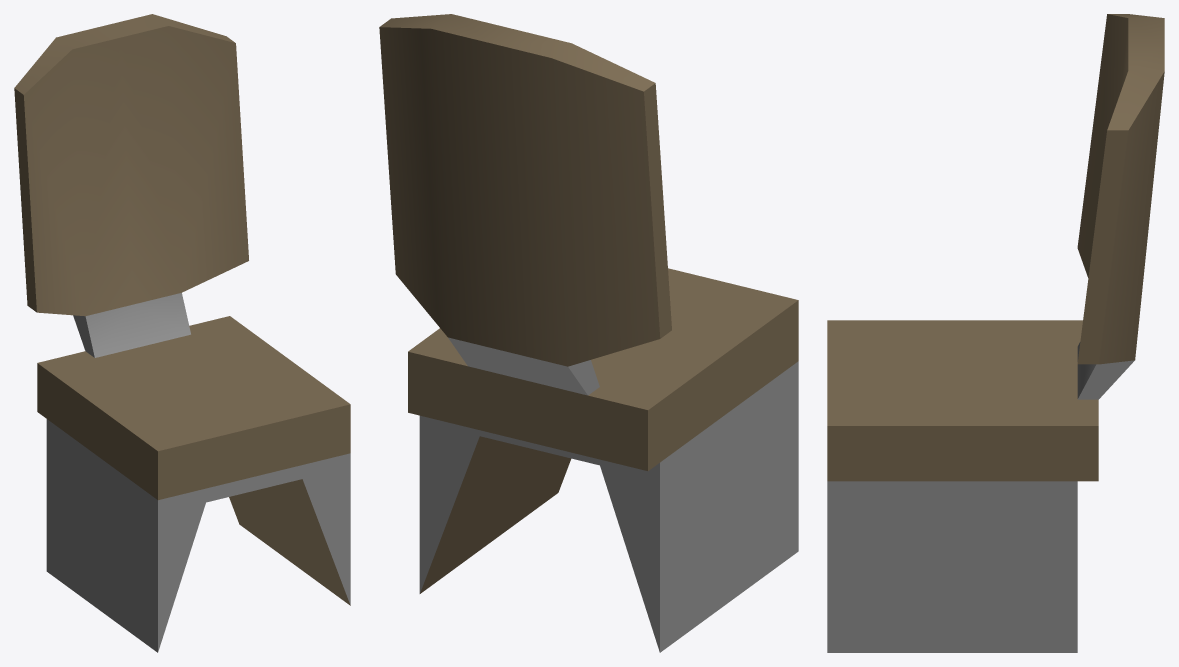
File: chair_room.fbx
3 views of the same model, side by side, from view 1: azimuth 30°, elevation 25°; view 2: azimuth 150°, elevation 25°; view 3: azimuth 270°, elevation 25° (orthographic). The views are drawn at different scales.
Parts seen in each view (by area): view 1: chair_room; view 2: chair_room; view 3: chair_room.
Part boxes in pixels (x1,y1,x2,y2): chair_room: [14, 14, 350, 652]; chair_room: [379, 14, 798, 652]; chair_room: [827, 14, 1164, 652].
Size of the model in its own units: 1.1 by 1.35 by 2.45.
